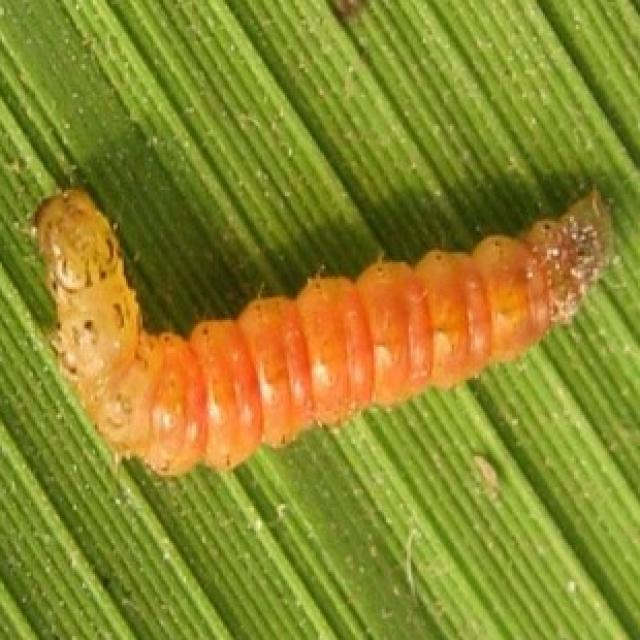rice leaf roller: (37, 192, 613, 477)
